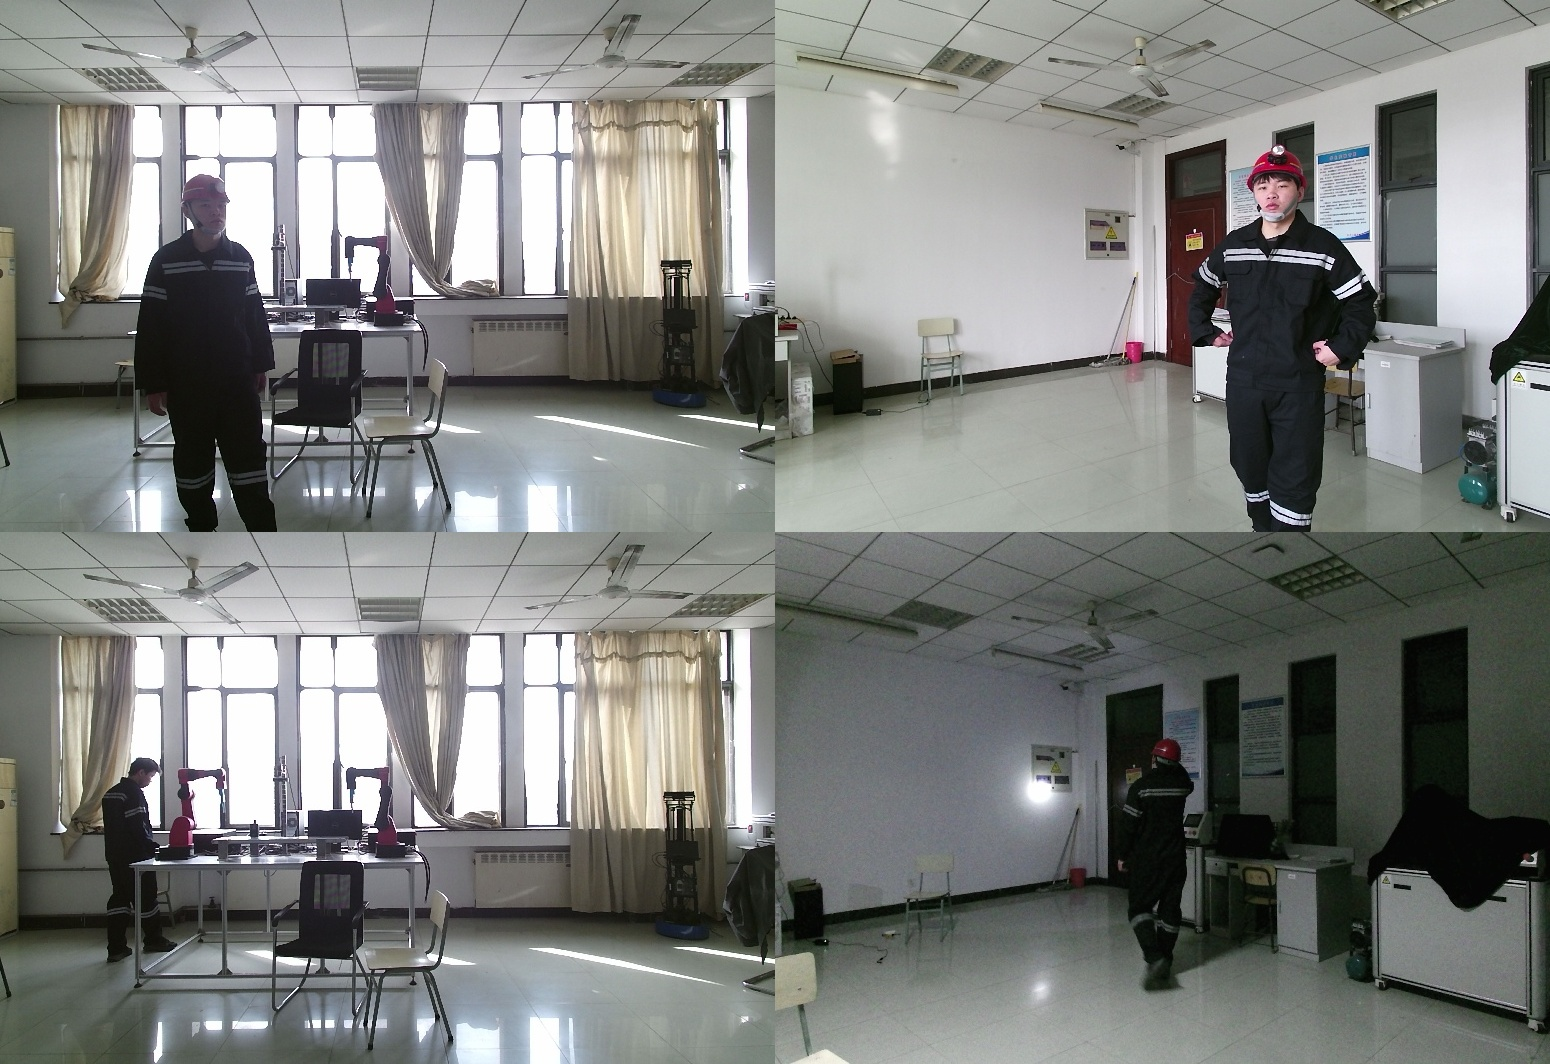person: (1195, 146, 1391, 532), (139, 176, 293, 532), (1113, 738, 1202, 997), (94, 757, 177, 963)
